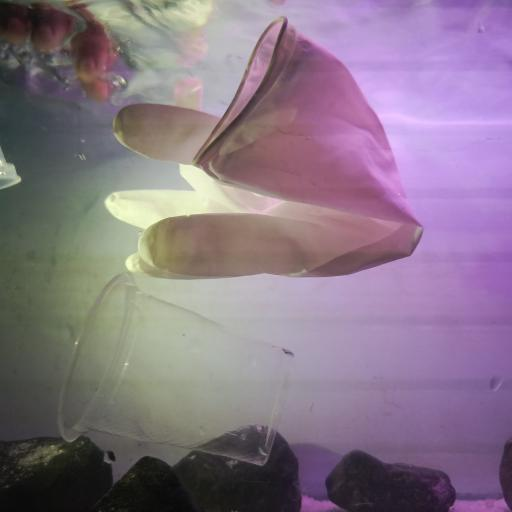glove: (102, 14, 426, 281)
plastic_cup: (56, 270, 297, 462)
